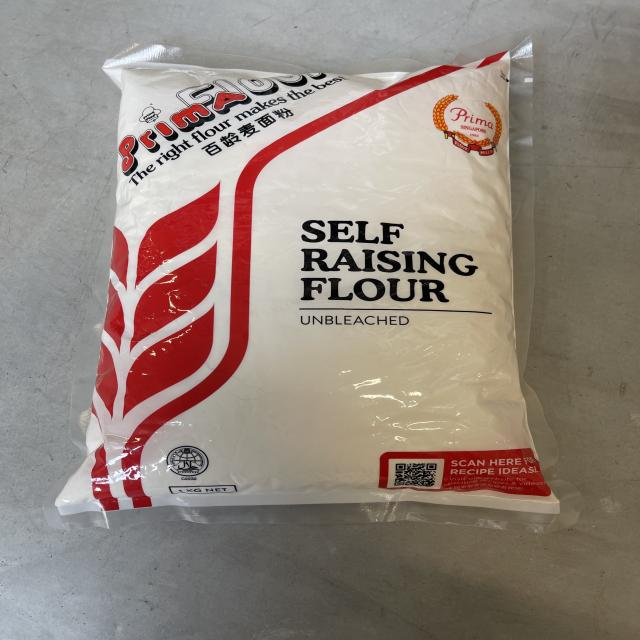object_name: (94, 52, 545, 518)
